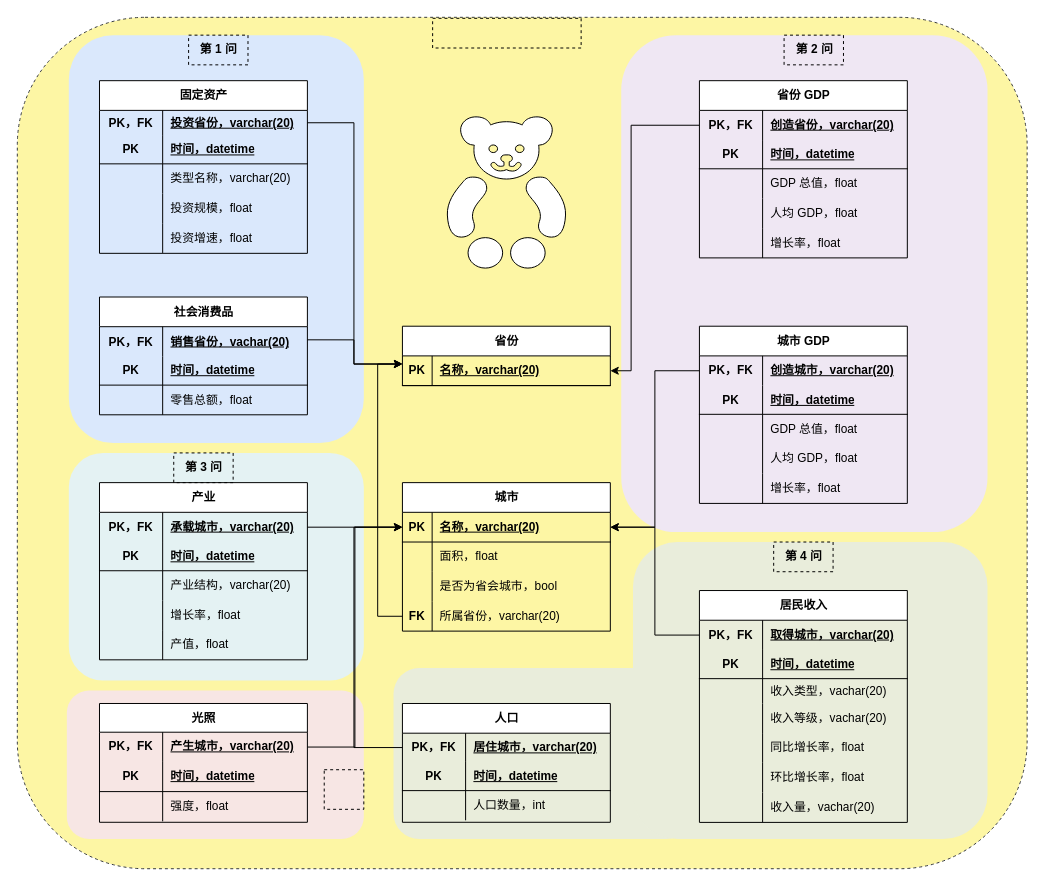
The diagram is 1044 pixels wide and 886 high, and some of its shapes have lost their labels. Here are the shapes that lost their labels. From the top down, the centre of each, then its label:
(506,32): 数据库系统架构图
(343,789): 扩 展
